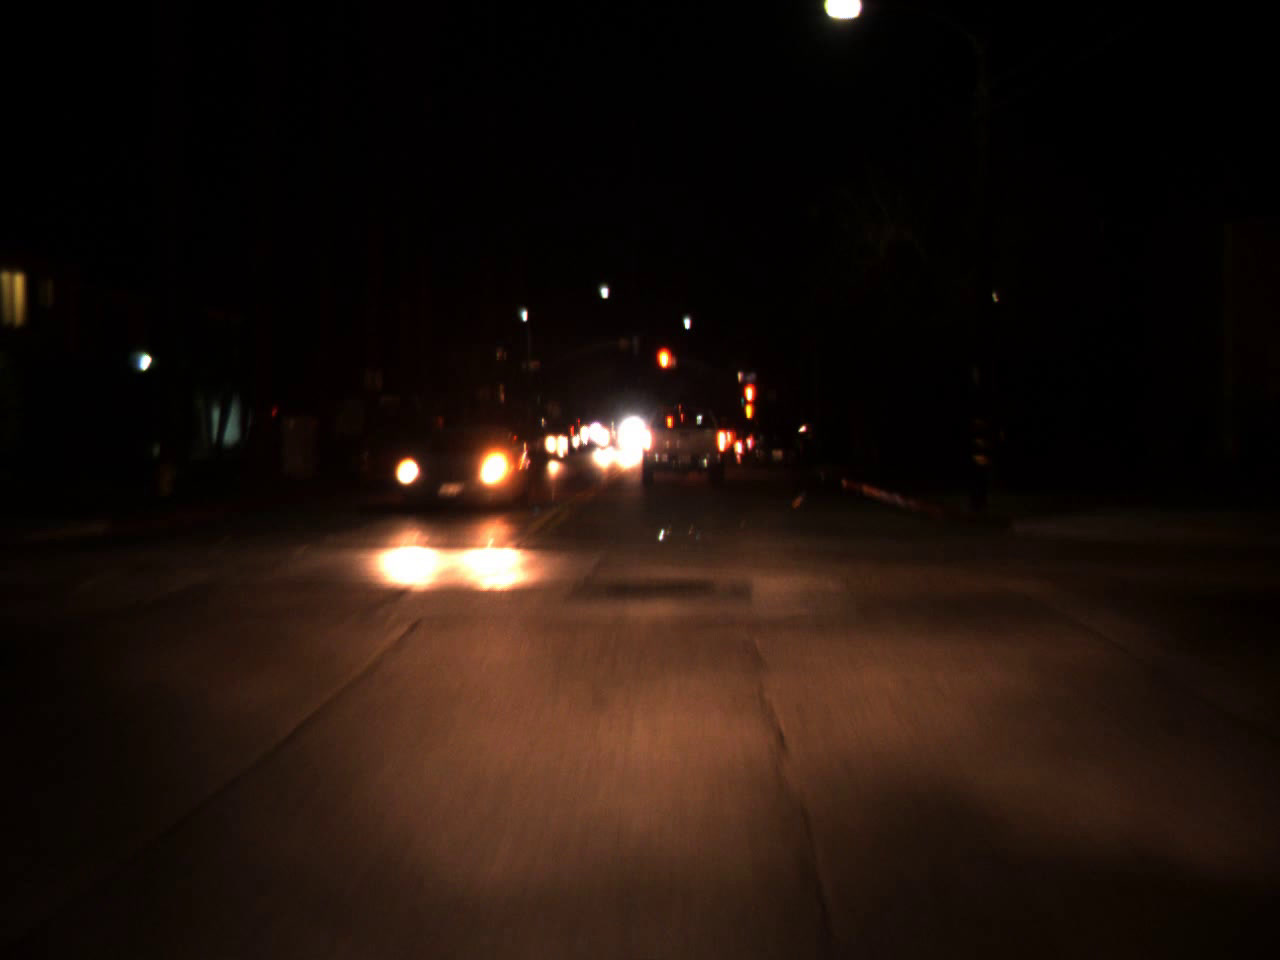stop: (654, 344, 675, 395), (742, 379, 757, 427)
